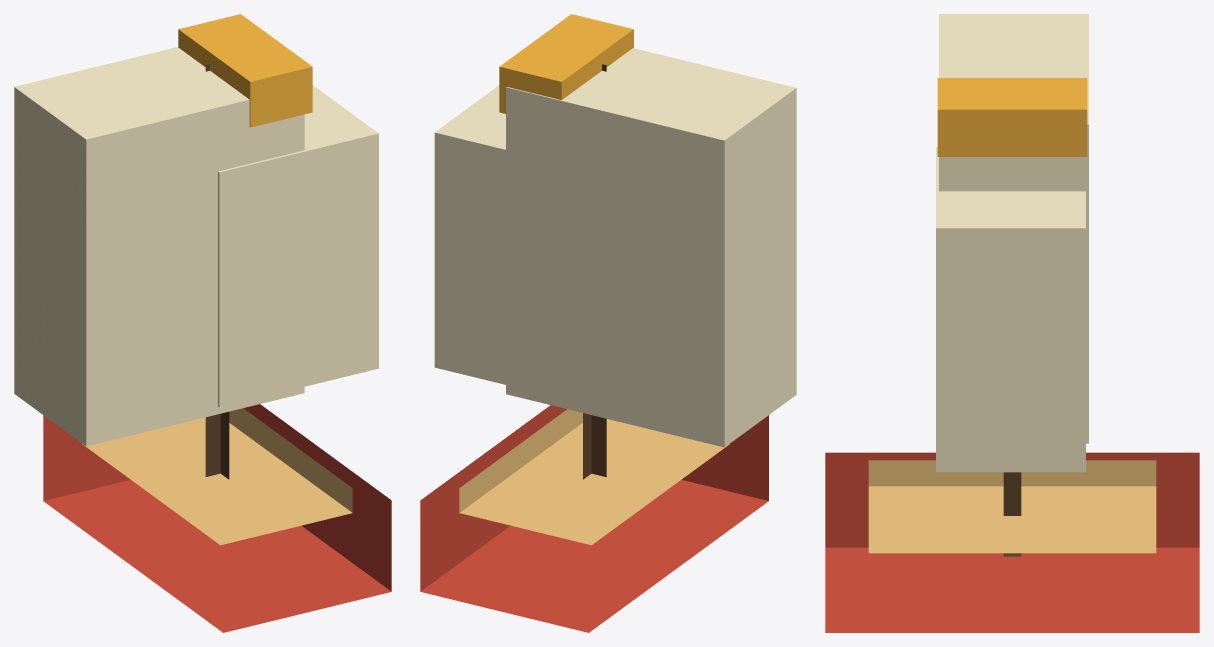
File: cartoon-sailboat.gltf
3 renders of one model, left to right at view 1: azimuth 30°, elevation 25°; view 2: azimuth 150°, elevation 25°; view 3: azimuth 270°, elevation 25°, orthographic. The views are drawn at different scales.
Parts seen in each view (by area): view 1: SailLeft, SailRight, Hull, Deck, Flag, Mast; view 2: SailLeft, Hull, SailRight, Deck, Flag, Mast; view 3: SailRight, Hull, Deck, SailLeft, Flag, Mast.
Part boxes in pixels (x1,y1,x2,y2): SailLeft: (14, 47, 304, 446); SailRight: (218, 85, 378, 407); Hull: (43, 404, 391, 632); Deck: (82, 408, 352, 545); Flag: (178, 14, 312, 127); Mast: (205, 64, 229, 479); SailLeft: (506, 48, 796, 447); Hull: (420, 405, 768, 632); SailRight: (434, 85, 505, 384); Deck: (459, 409, 729, 545); Flag: (499, 14, 633, 113); Mast: (583, 64, 606, 479); SailRight: (936, 147, 1085, 472); Hull: (825, 452, 1199, 632); Deck: (868, 460, 1156, 553); SailLeft: (939, 14, 1088, 443); Flag: (937, 78, 1087, 156); Mast: (1003, 472, 1021, 556).
Bounding box in the file's own units: 4.67 × 7.53 × 5.
